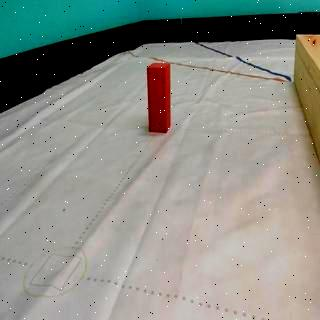redbox: (146, 63, 172, 132)
